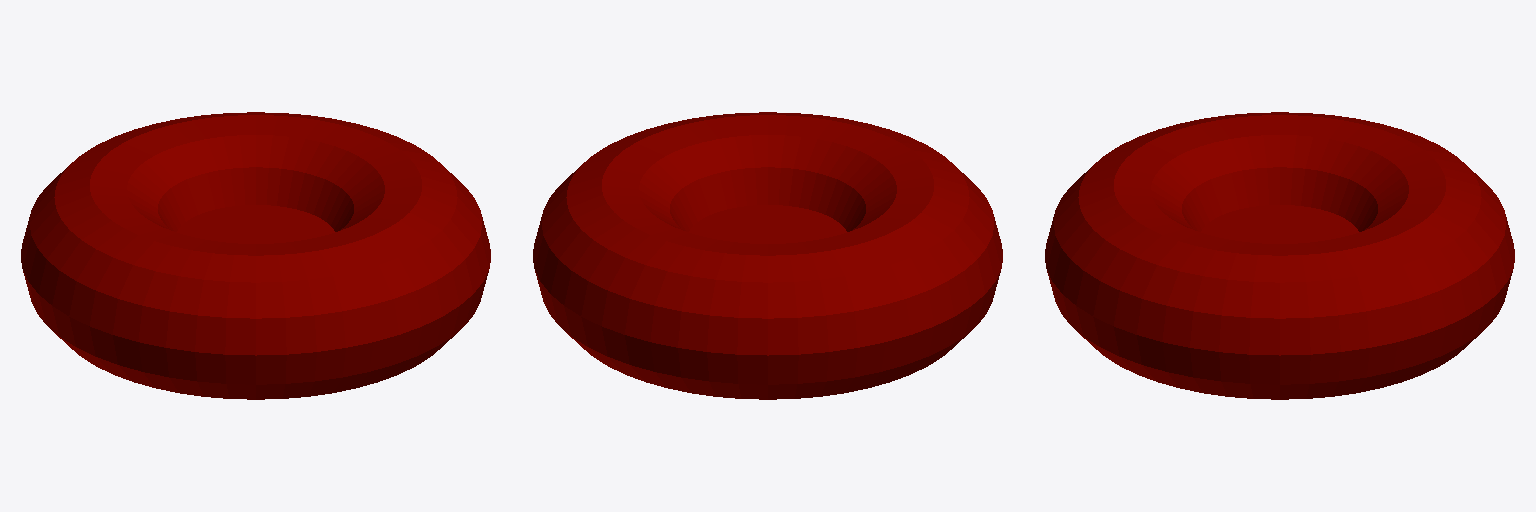
Rendered from RedBloodCell.obj.
The picture shows the model from 3 angles: view 1: azimuth 30°, elevation 25°; view 2: azimuth 150°, elevation 25°; view 3: azimuth 270°, elevation 25°; orthographic projection.
Parts seen in each view (by area): view 1: Torus.002; view 2: Torus.002; view 3: Torus.002.
Boxes of the visible parts, x1=… form: Torus.002: x1=21, y1=112, x2=490, y2=399; Torus.002: x1=533, y1=112, x2=1002, y2=399; Torus.002: x1=1045, y1=112, x2=1514, y2=399.
Bounding box in the file's own units: 3 × 0.9927 × 3.